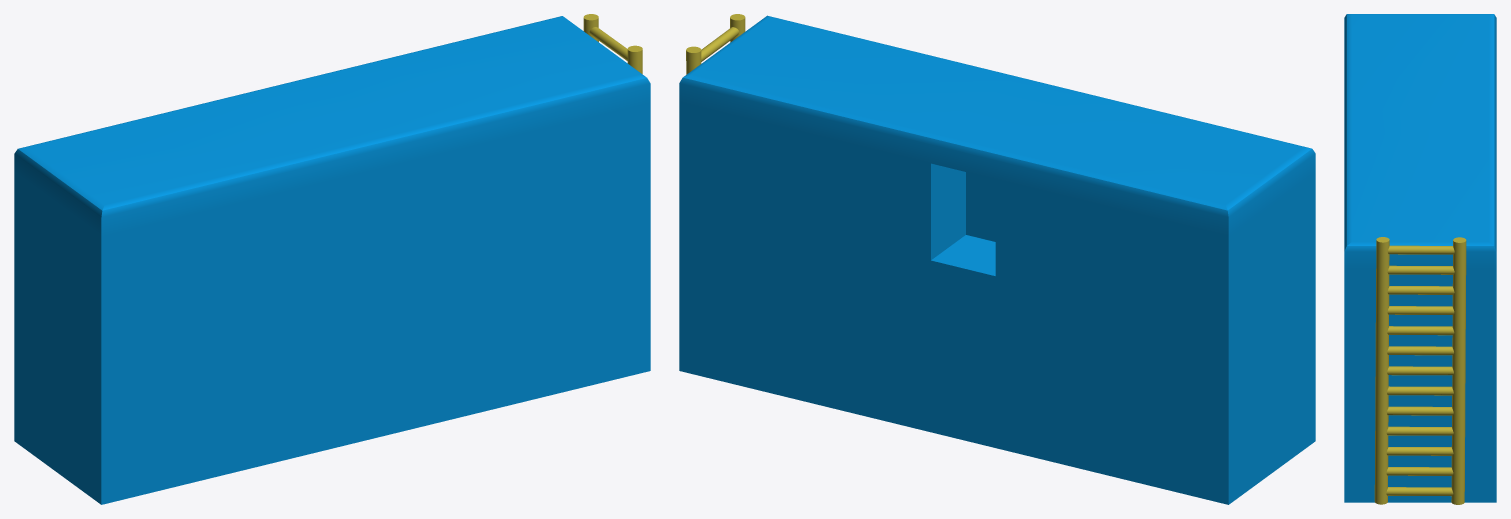
Rendered from Stage003_mainMapP4.fbx.
The picture shows the model from 3 angles, left to right: view 1: azimuth 30°, elevation 25°; view 2: azimuth 150°, elevation 25°; view 3: azimuth 270°, elevation 25°; orthographic projection. The views are drawn at different scales.
Visible parts, largest first — view 1: pCube400, ladder004; view 2: pCube400, ladder004; view 3: pCube400, ladder004.
Part boxes in pixels (x1=…): pCube400: x1=14, y1=16, x2=650, y2=504; ladder004: x1=583, y1=14, x2=642, y2=73; pCube400: x1=679, y1=15, x2=1315, y2=504; ladder004: x1=686, y1=14, x2=745, y2=74; pCube400: x1=1344, y1=14, x2=1496, y2=502; ladder004: x1=1374, y1=237, x2=1466, y2=504.
Size of the model in its own units: 24.69 by 12.77 by 6.63.
